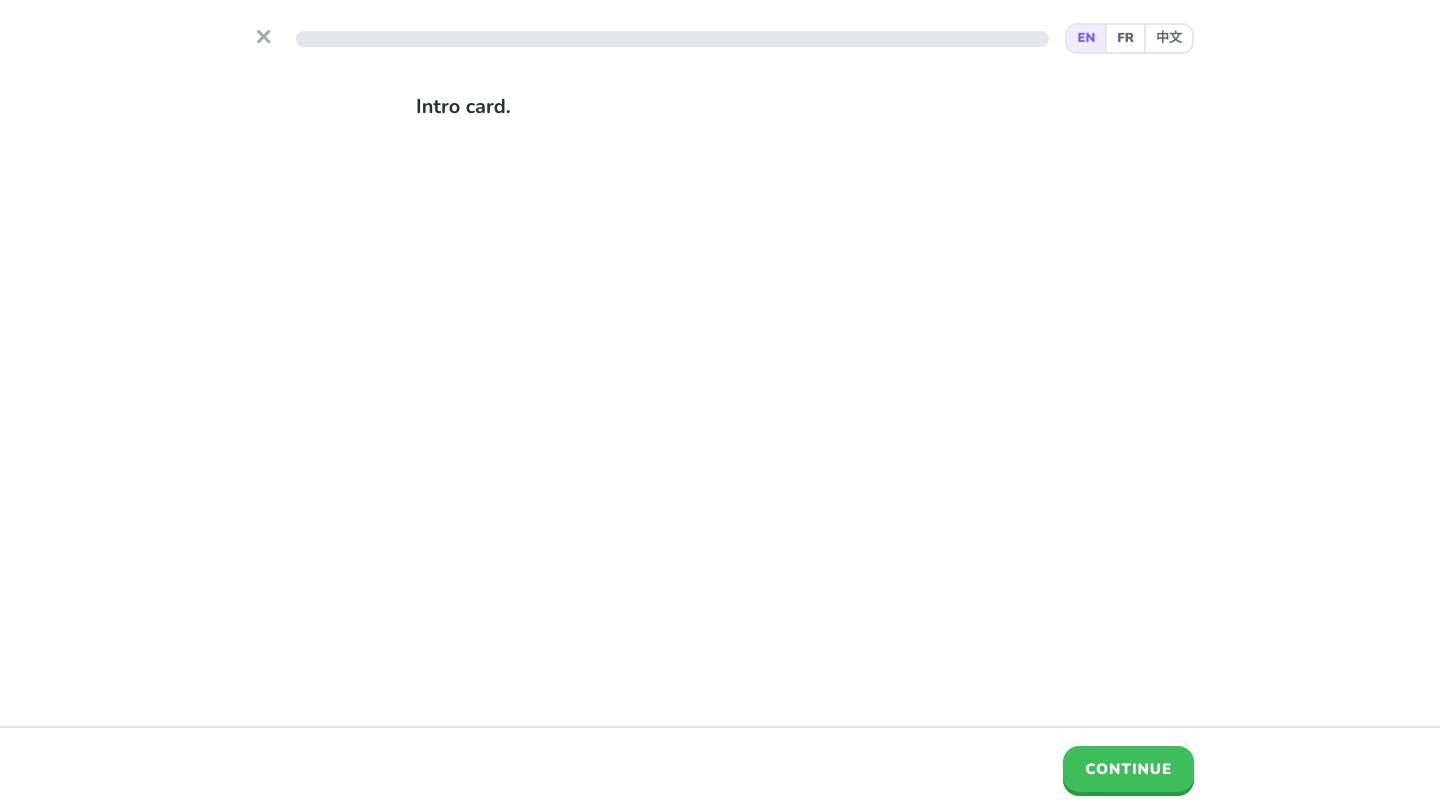
Test: a bite resumes where you left it › after leaving mid-lesson, it reopens on the same question with progress and XP kept
Later steps or results of the test are not shown.
Click the button "Continue" at x=1129, y=769, box [1063,746,1194,792]
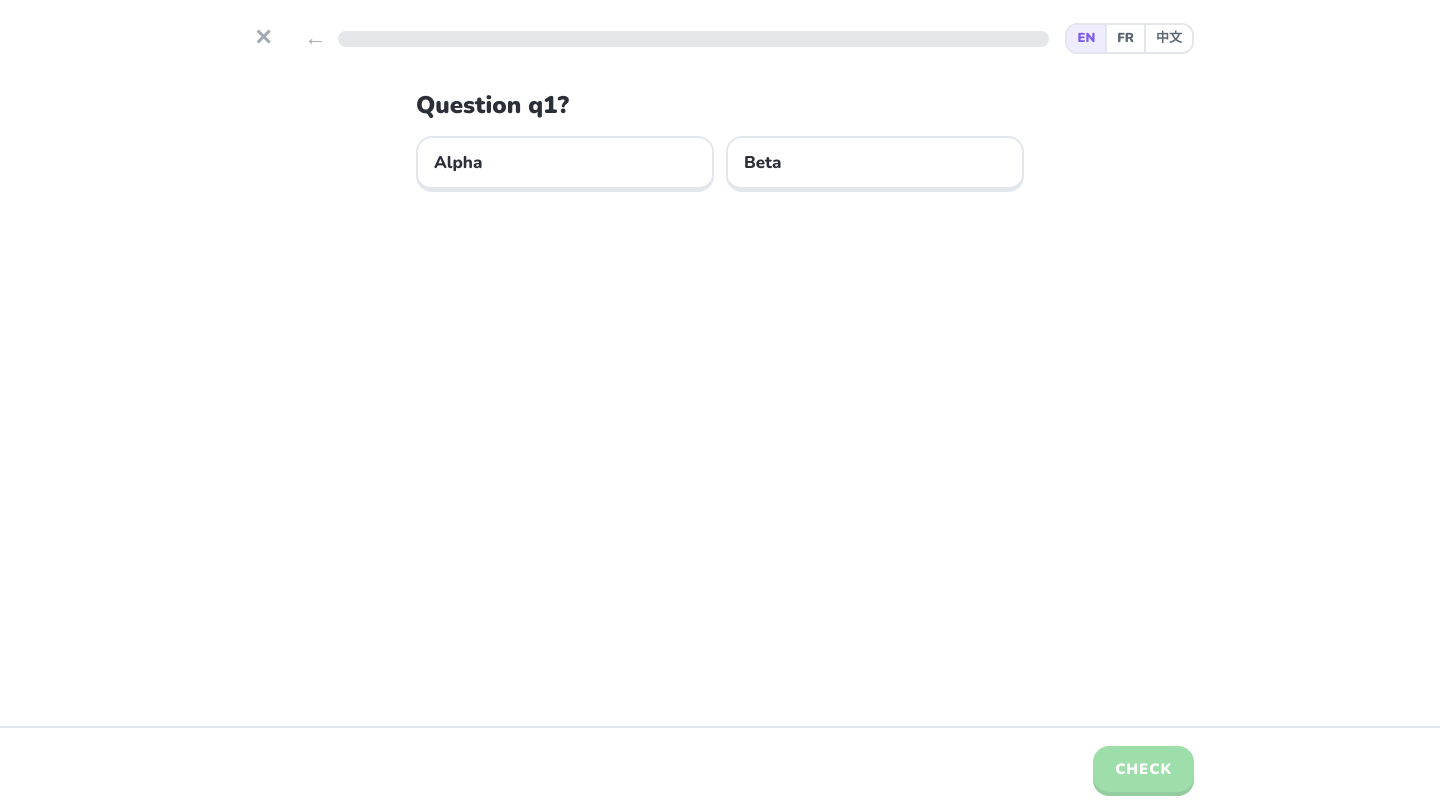
Click the button "Alpha" at x=458, y=162, box [416,136,714,192]
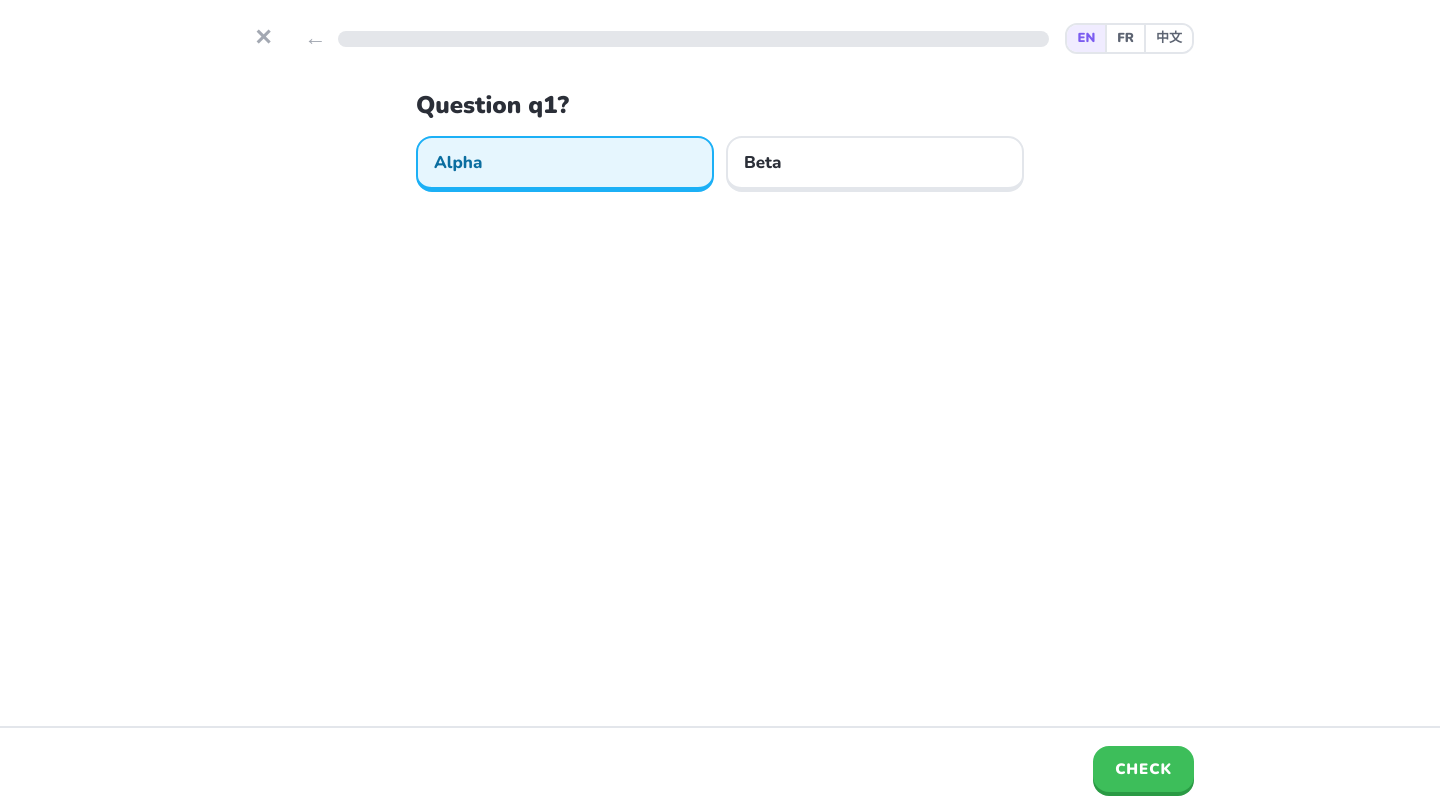
Click the button "Check" at x=1144, y=769, box [1093,746,1194,792]
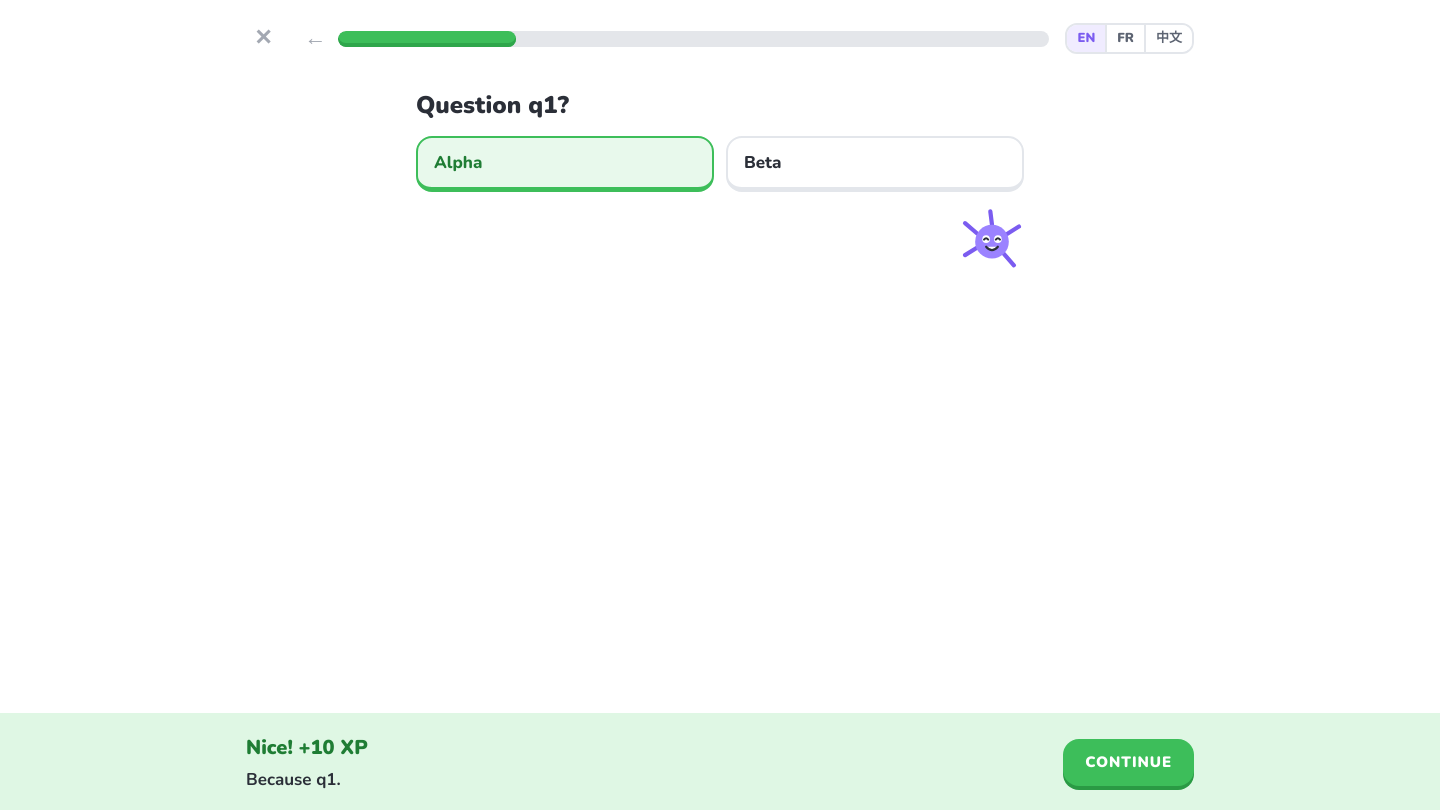
Click the button "Continue" at x=1129, y=762, box [1063,739,1194,786]
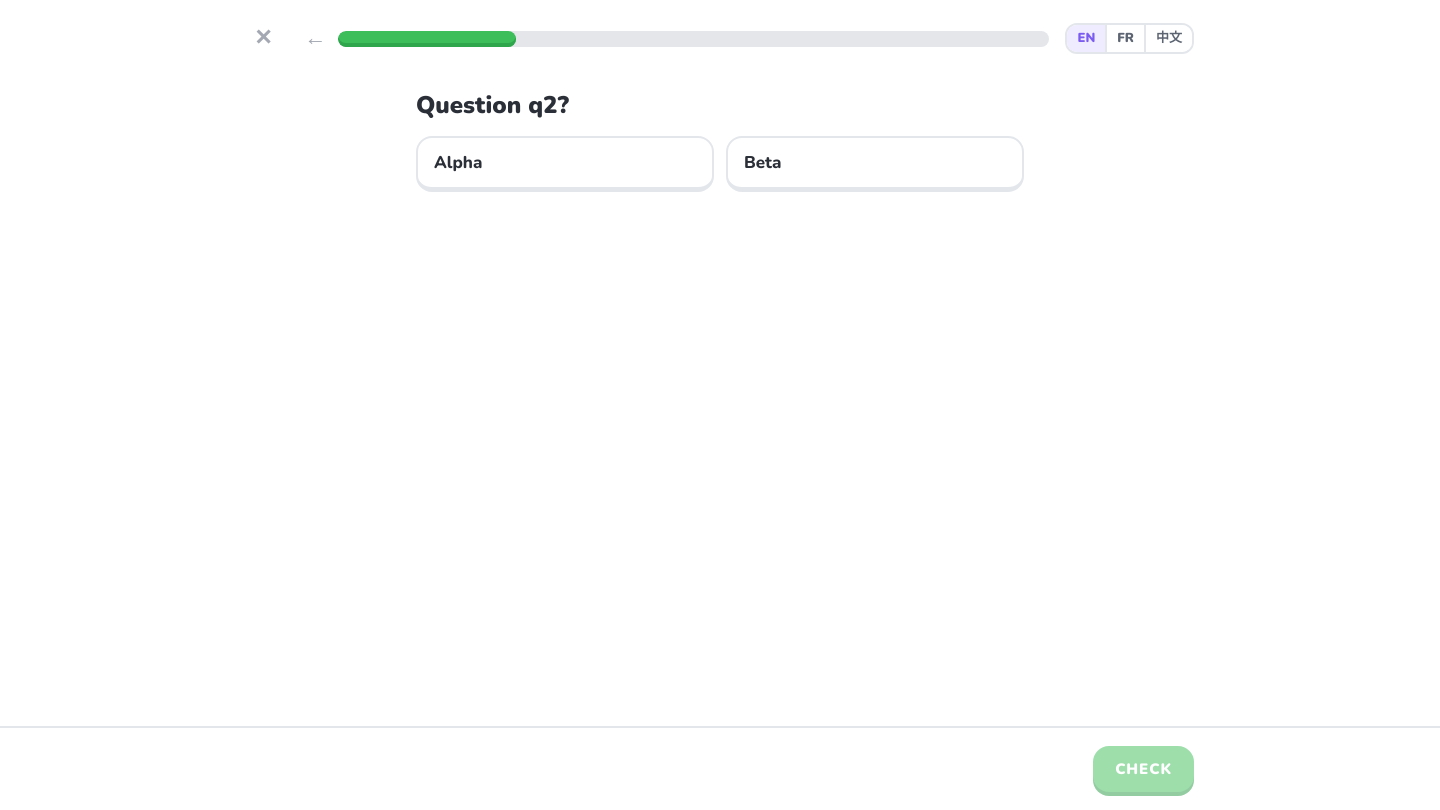
Expected: the heading "Question q2?" is shown, [416,89,569,121]
